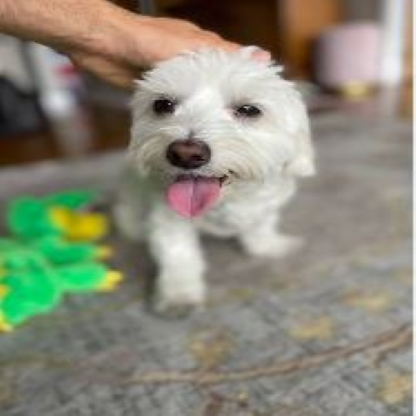maltese: (128, 44, 318, 254)
